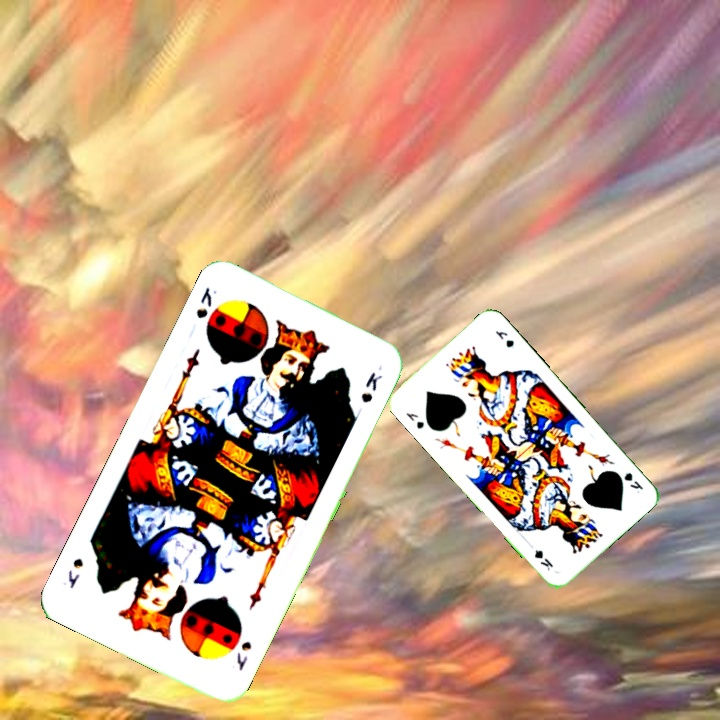GK: (620, 467, 646, 496), (402, 408, 427, 432)
SK: (191, 282, 220, 321), (232, 637, 255, 674)
